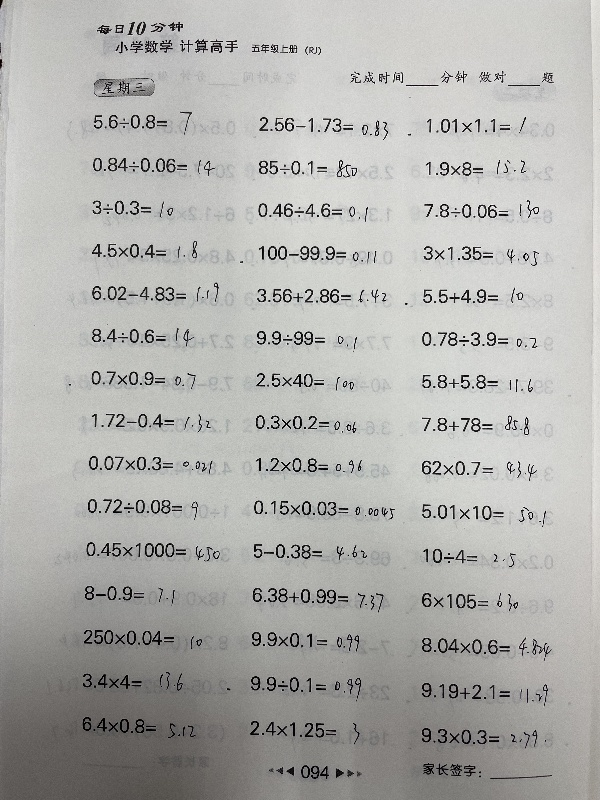equation: (248, 580, 391, 623), (75, 622, 206, 661), (418, 632, 555, 668), (417, 677, 555, 712), (244, 714, 364, 753), (82, 536, 225, 568), (77, 710, 197, 747), (80, 578, 187, 618), (249, 672, 369, 706), (248, 537, 393, 565), (248, 496, 397, 523), (255, 111, 392, 138), (87, 278, 222, 305), (416, 498, 549, 525), (418, 725, 545, 753), (418, 541, 522, 575), (80, 670, 190, 701), (416, 408, 533, 436), (87, 409, 213, 435), (82, 494, 201, 521), (416, 454, 539, 480), (248, 629, 365, 656), (87, 152, 218, 176), (418, 241, 541, 266), (419, 196, 542, 221), (83, 451, 215, 474), (89, 110, 197, 138), (253, 284, 390, 306), (254, 240, 379, 264), (86, 320, 196, 347), (416, 326, 539, 350), (252, 197, 370, 222), (88, 236, 201, 262), (416, 369, 536, 393), (251, 453, 365, 478), (415, 587, 521, 613), (251, 326, 359, 351), (86, 366, 198, 390), (254, 156, 361, 181), (251, 368, 357, 393), (418, 283, 526, 307), (250, 410, 359, 433), (420, 155, 528, 178), (421, 113, 528, 136), (88, 196, 177, 220)
